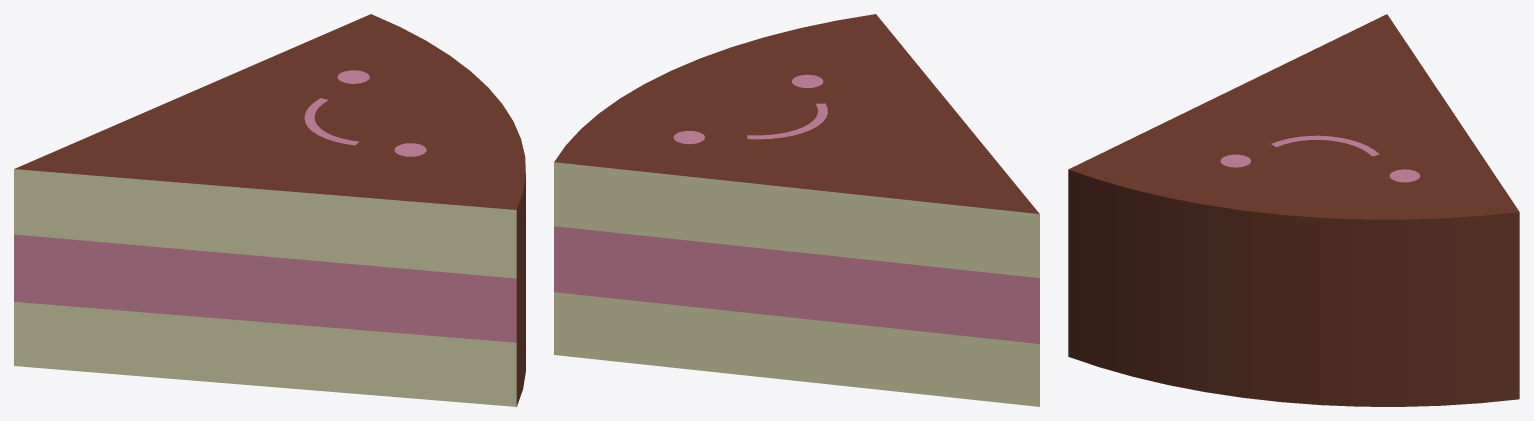
The model's file is cake.dae.
The picture shows the model from 3 angles, left to right: view 1: azimuth 30°, elevation 25°; view 2: azimuth 150°, elevation 25°; view 3: azimuth 270°, elevation 25°; orthographic projection. The views are drawn at different scales.
Parts seen in each view (by area): view 1: SketchUp (×5); view 2: SketchUp (×5); view 3: SketchUp (×2).
Boxes of the visible parts, x1,y1,x2,y2 form: SketchUp (×5): (14,14,525,406); SketchUp (×5): (554,14,1039,406); SketchUp (×2): (1068,14,1519,406).
Size of the model in its own units: 54.17 by 50.23 by 23.
